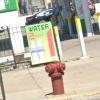a fire hydrant: (45, 61, 70, 95)
